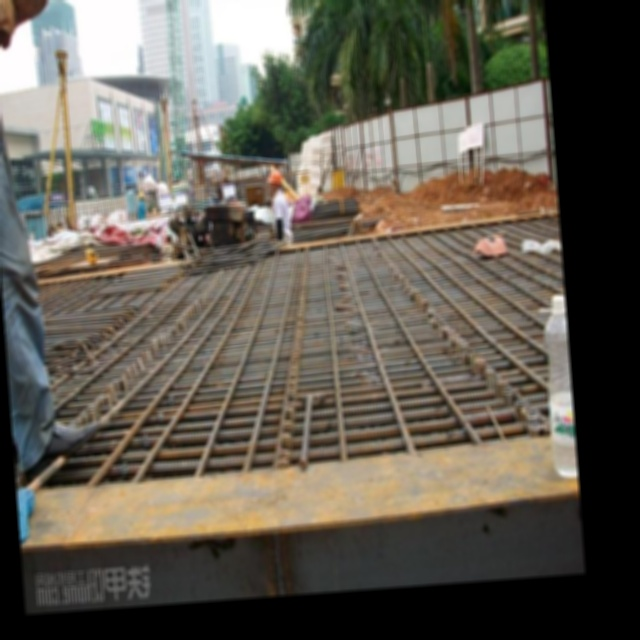Con_Casco: (266, 169, 283, 192)
Sin_Chaleco: (270, 193, 293, 241)
